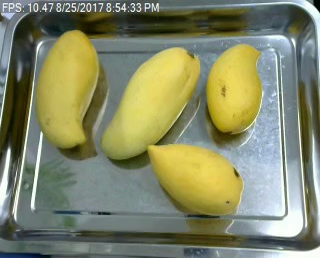Mango: (101, 45, 200, 163), (32, 28, 103, 150), (147, 142, 244, 219), (204, 41, 263, 135)
